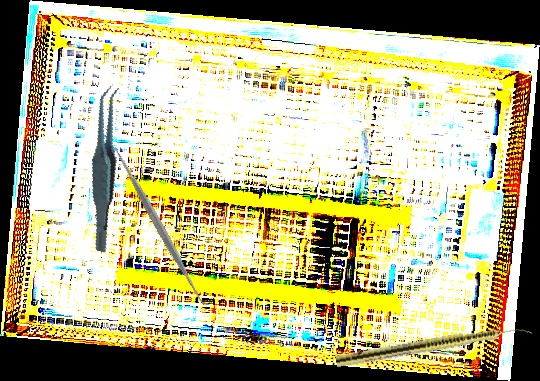Handpiece: (335, 320, 533, 371)
Spatula Surgical: (106, 140, 214, 313)
Tissue Forceps: (60, 84, 150, 253)
